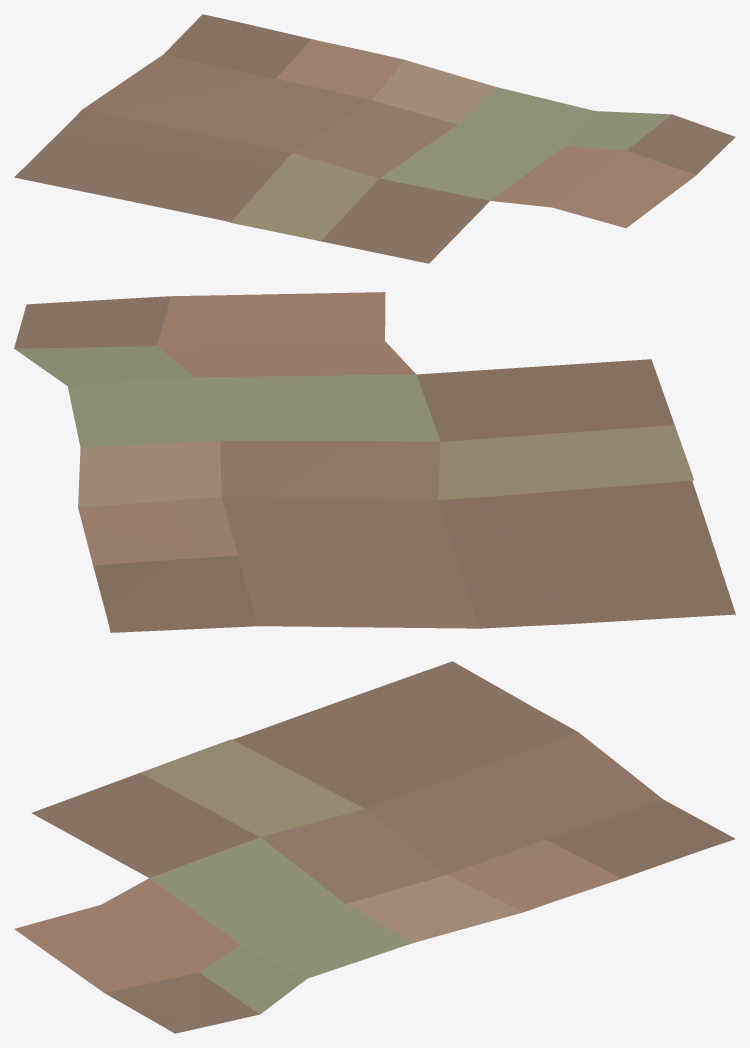
File: farm_27_16_soil.glb
3 views of the same model, one above another, from view 1: azimuth 30°, elevation 25°; view 2: azimuth 150°, elevation 25°; view 3: azimuth 270°, elevation 25° (orthographic). The views are drawn at different scales.
Parts seen in each view (by area): view 1: geometry_0; view 2: geometry_0; view 3: geometry_0.
Part boxes in pixels (<box>): geometry_0: <box>14,14,735,263</box>; geometry_0: <box>14,292,735,632</box>; geometry_0: <box>14,661,735,1033</box>.
Bounding box in the file's own units: 183 × 6.04 × 161.
